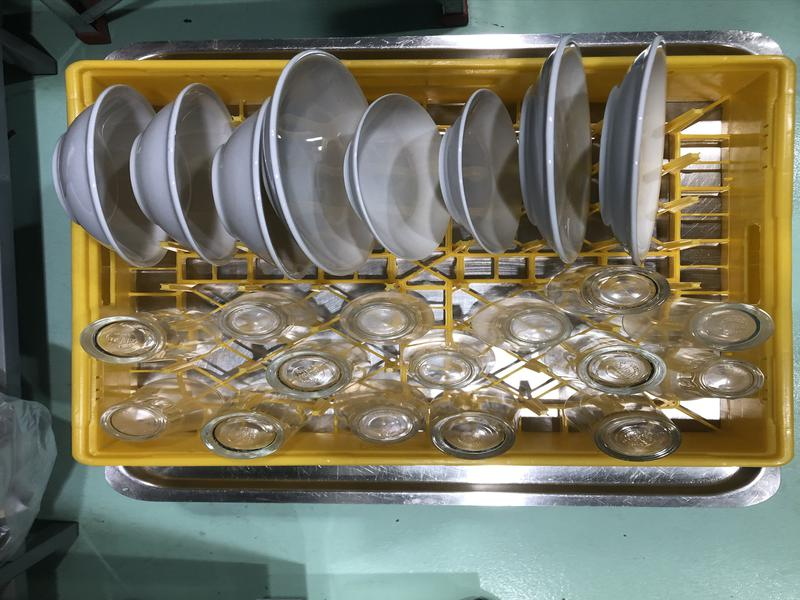Dish: (263, 49, 373, 276), (52, 84, 168, 267), (127, 83, 232, 265), (343, 92, 450, 262), (514, 35, 592, 263), (597, 33, 670, 265), (216, 93, 304, 283), (434, 89, 517, 257)
Glass: (78, 305, 216, 365), (565, 391, 683, 459), (97, 377, 216, 443), (546, 333, 664, 394), (628, 301, 767, 350), (427, 389, 520, 461), (208, 393, 307, 457), (263, 341, 369, 399), (550, 262, 667, 314), (330, 381, 424, 445), (470, 295, 577, 348), (405, 333, 497, 394), (341, 290, 436, 344), (220, 290, 317, 341), (670, 345, 761, 399)
